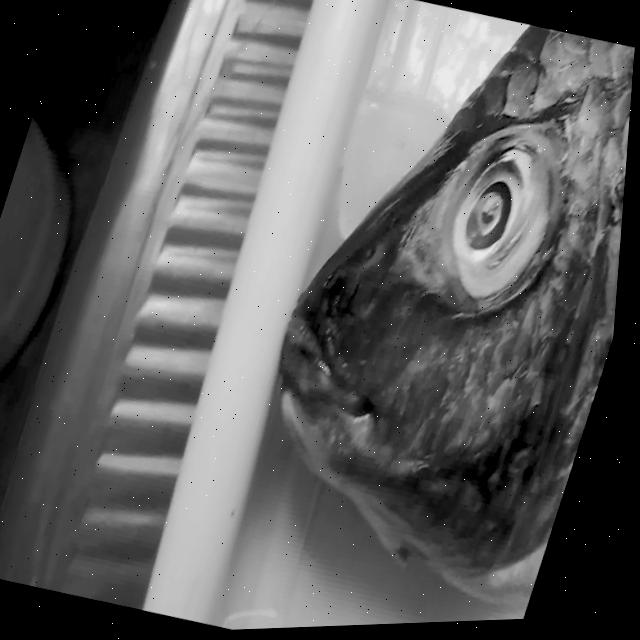Fresh: (403, 86, 600, 356)
